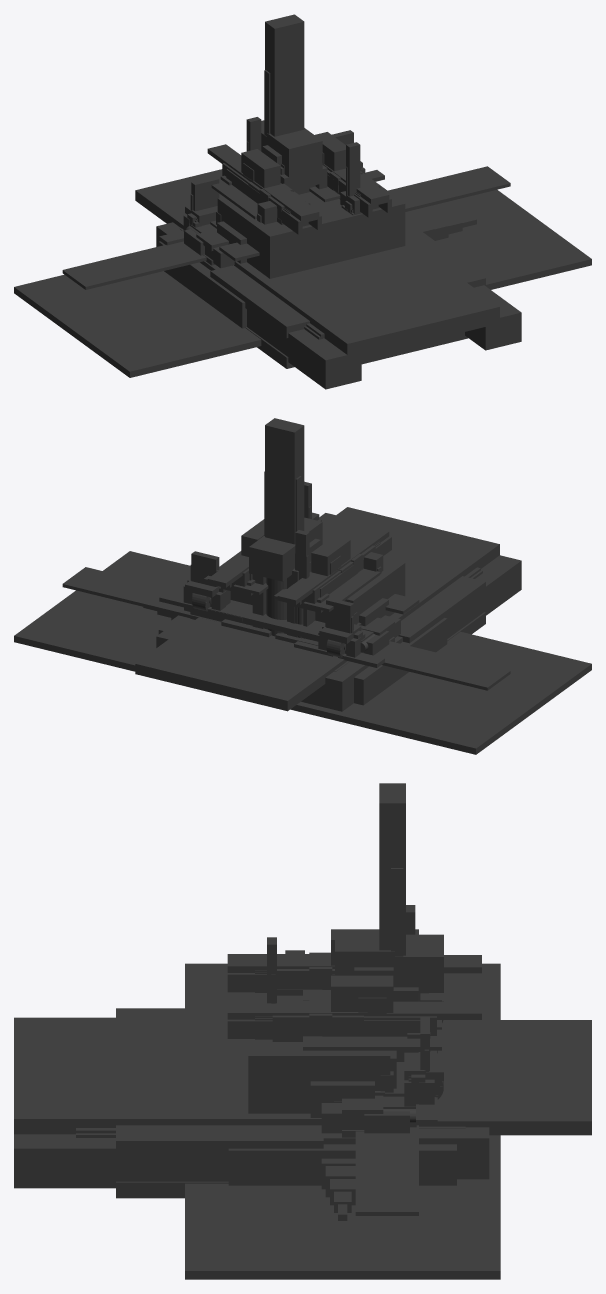
3 views of the same model, one above another, from view 1: azimuth 30°, elevation 25°; view 2: azimuth 150°, elevation 25°; view 3: azimuth 270°, elevation 25° (orthographic). The views are drawn at different scales.
Parts seen in each view (by area): view 1: world; view 2: world; view 3: world.
Boxes of the visible parts, x1,y1,x2,y2 form: world: (14, 14, 591, 389); world: (14, 418, 591, 754); world: (14, 783, 591, 1279).
Bounding box in the file's own units: 309 × 159 × 246.
Materials: 1 (1 with a texture image).
